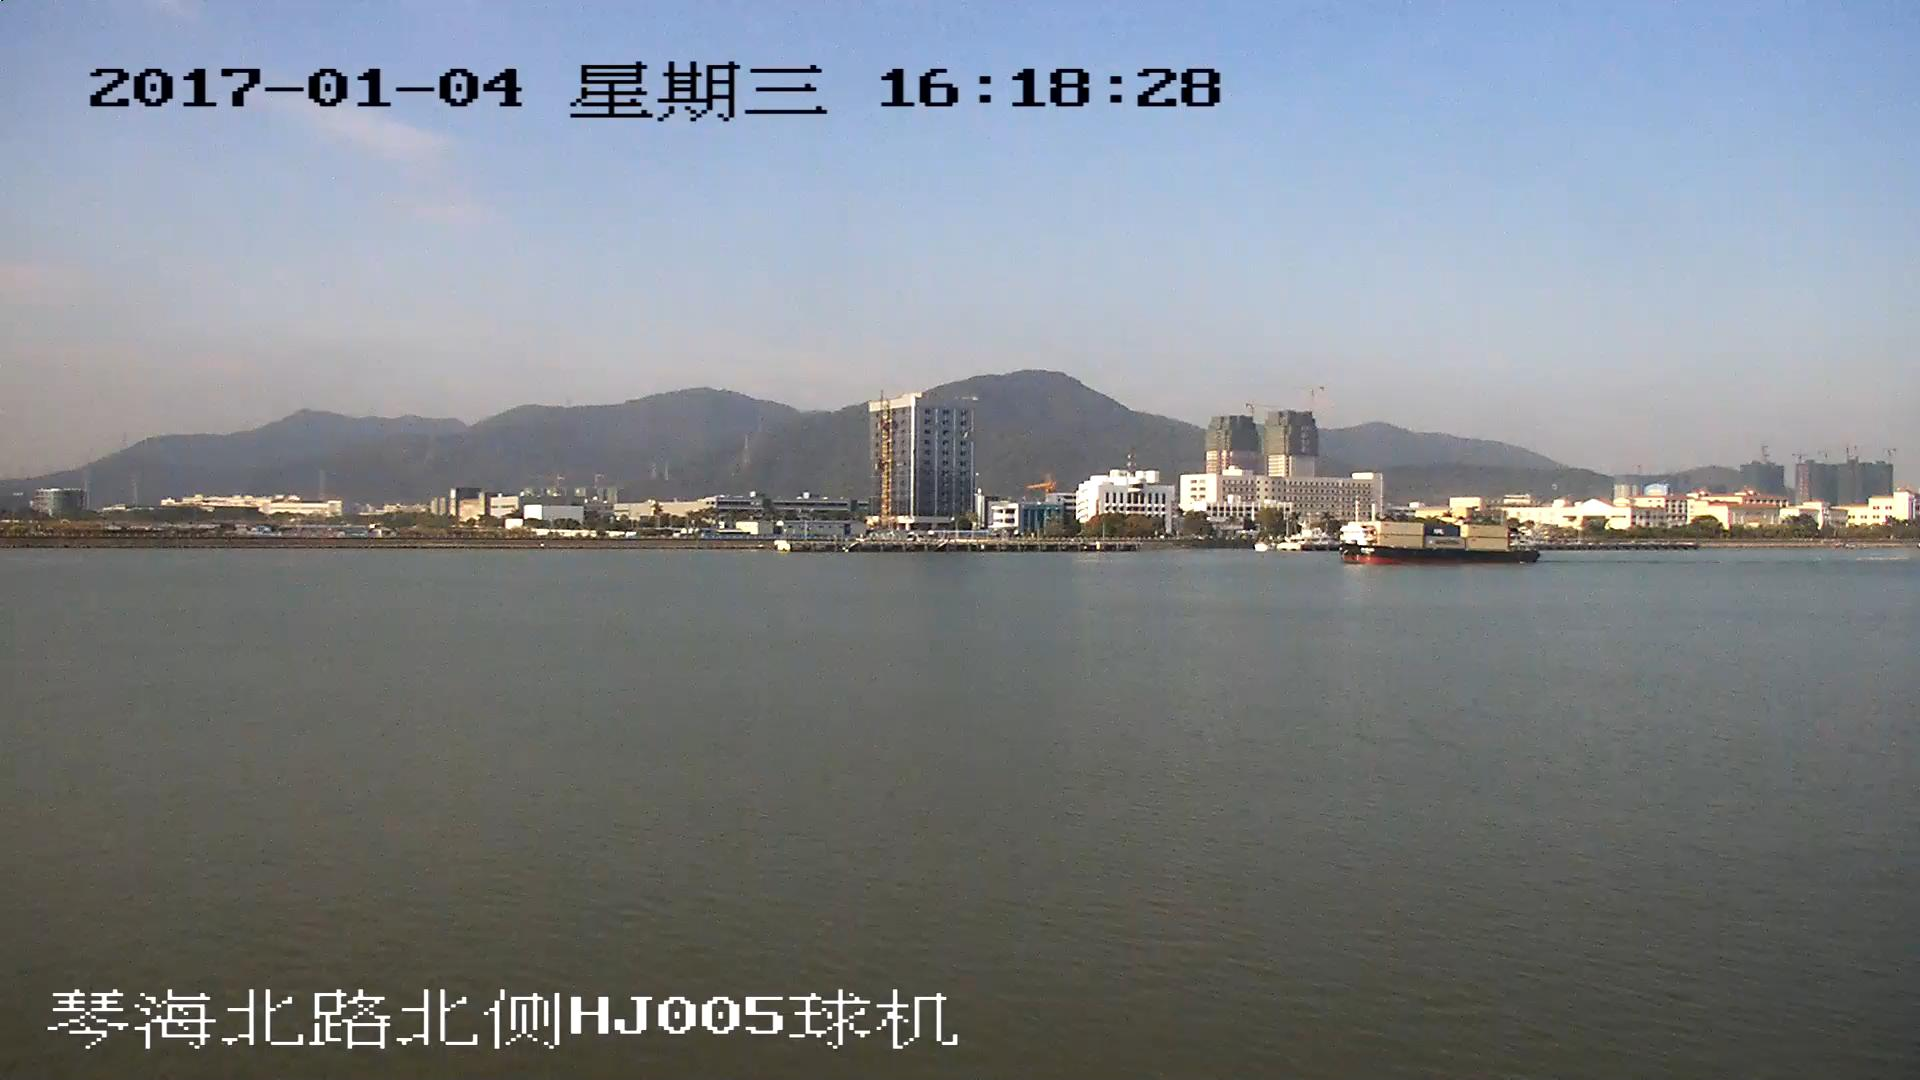container ship: (1340, 519, 1540, 565)
